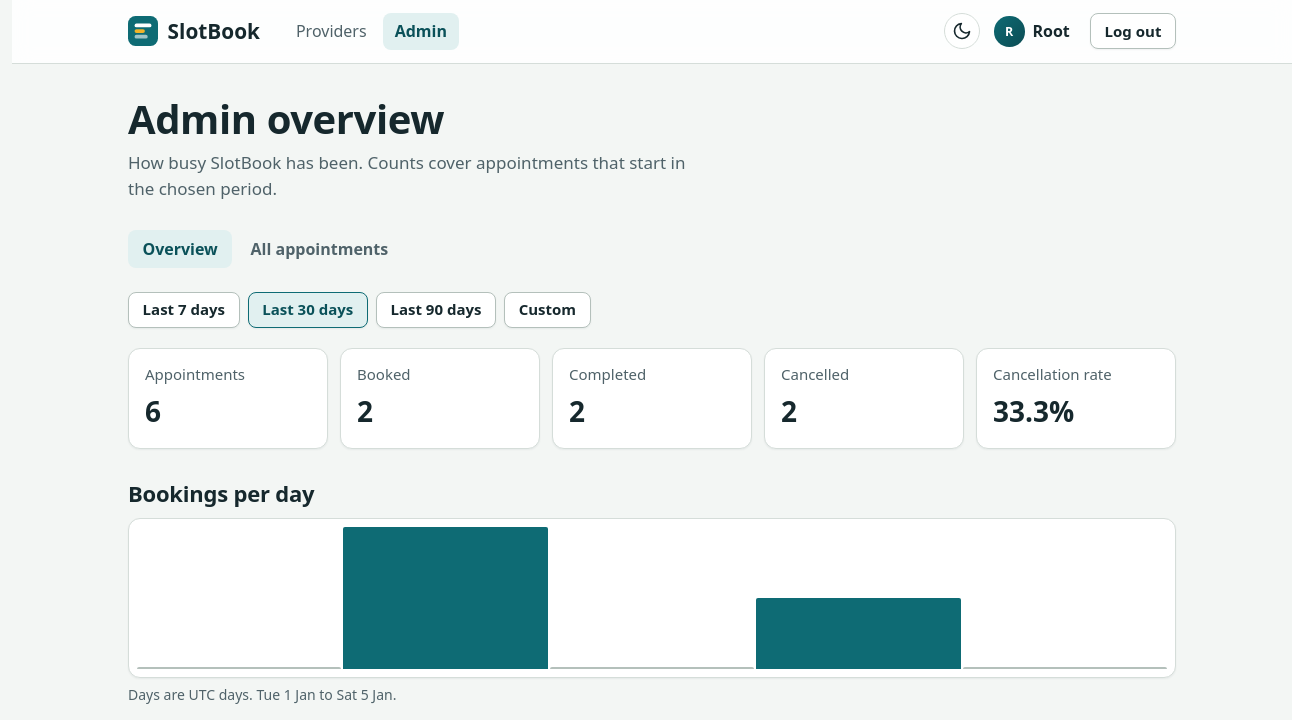
it: admin overview › switches the period with one click and keeps it in the URL
The width and height of the screenshot is (1292, 720).
Expected: the picture named "Bookings per day" is shown, x1=128 y1=518 x2=1176 y2=678
Click the button "Last 7 days": (184, 310) x1=128 y1=292 x2=240 y2=328
(page scrolled)
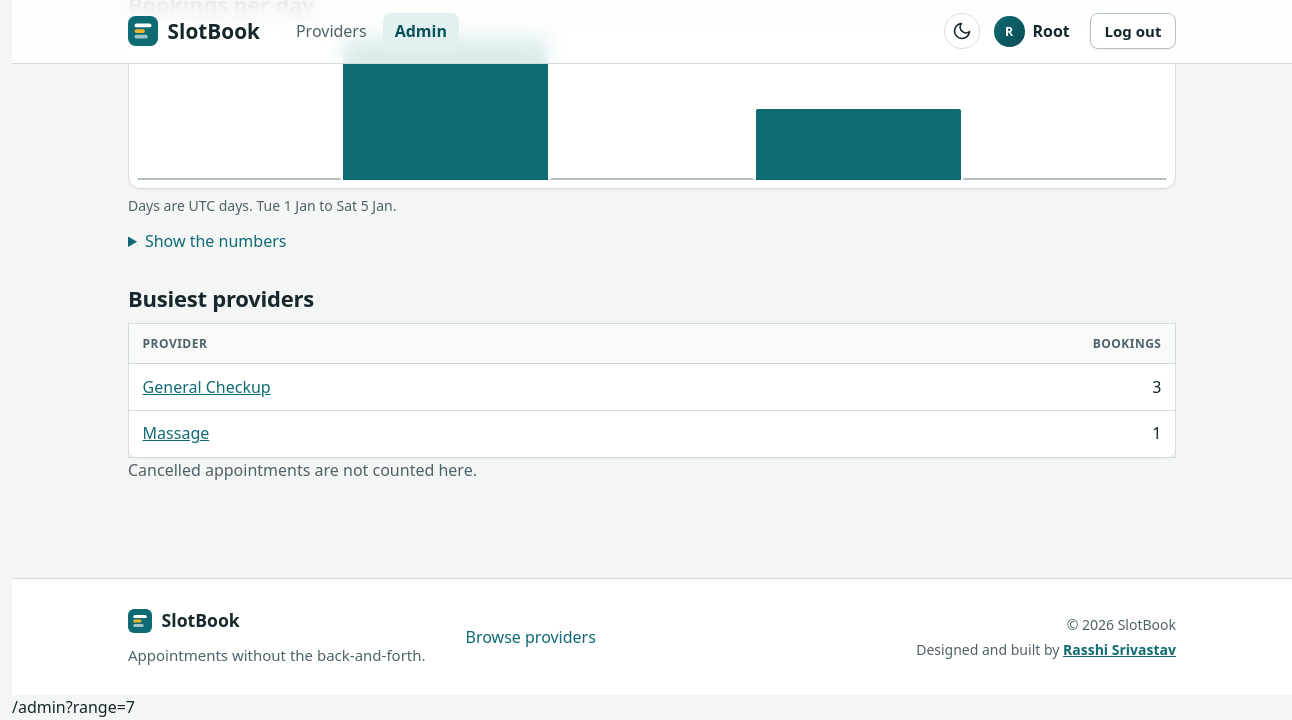
Expected: the text with test id "location" reads "/admin?range=7", x1=12 y1=696 x2=135 y2=718
